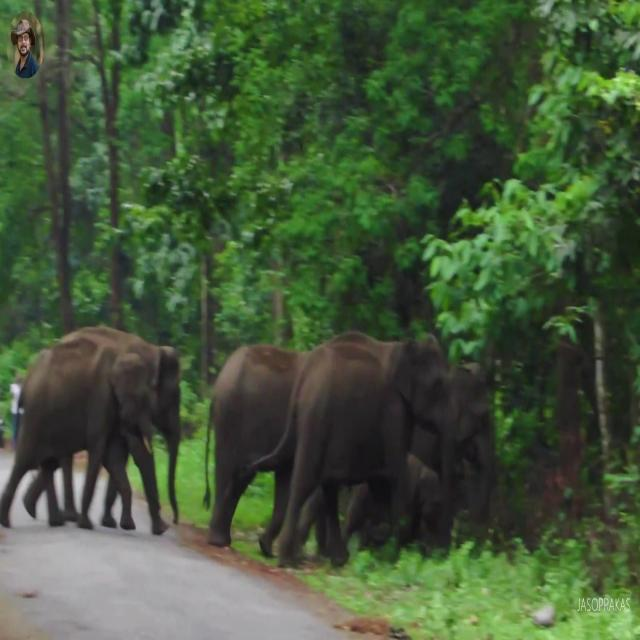Elephant: (0, 324, 182, 534)
person: (9, 372, 24, 452)
